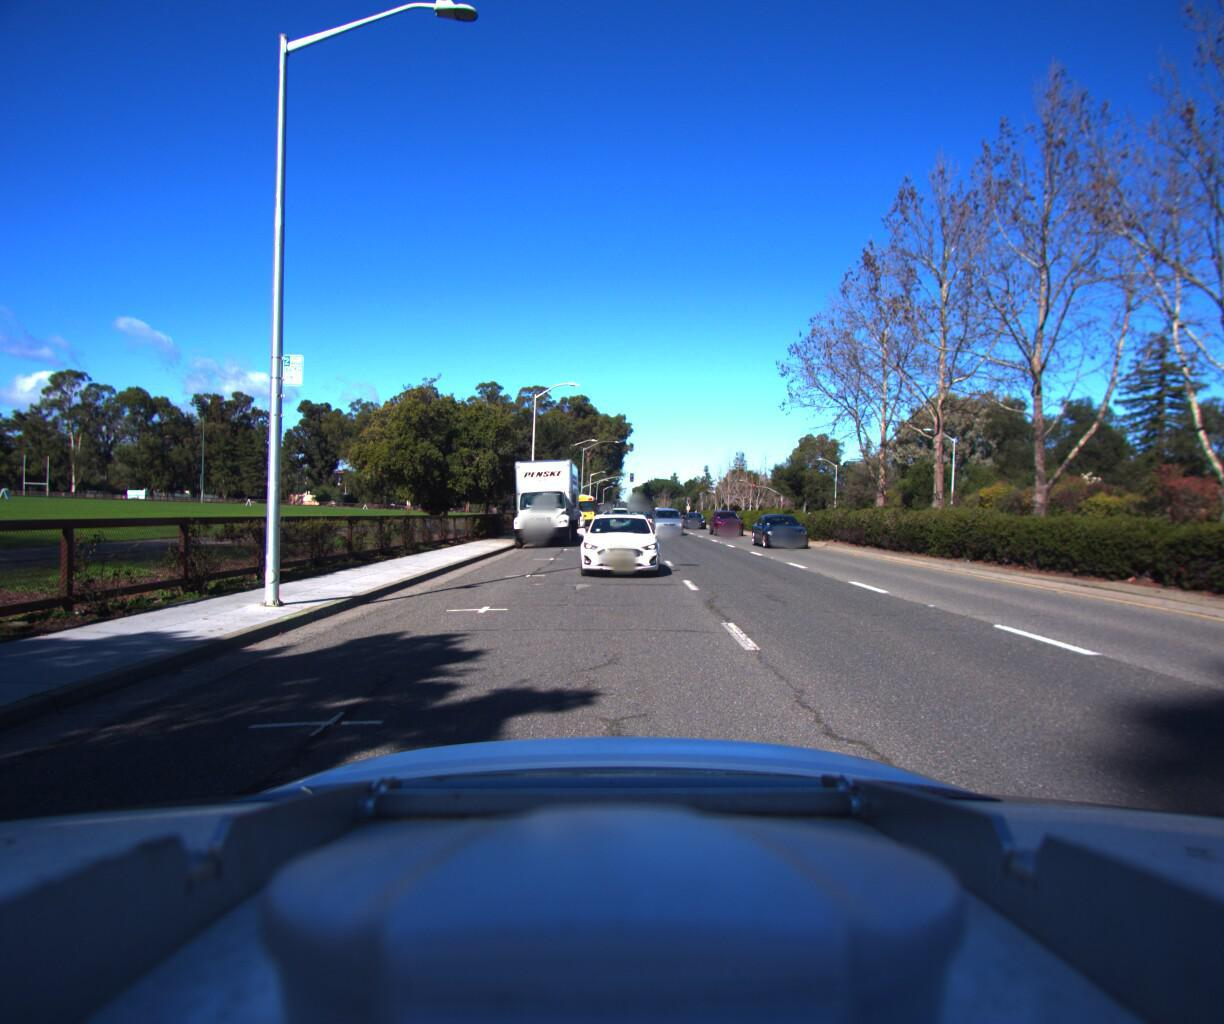bus: (565, 489, 596, 525)
car: (569, 501, 665, 579), (754, 506, 821, 547), (650, 503, 690, 534), (709, 506, 751, 534), (683, 508, 711, 527)
truck: (498, 448, 582, 548)
